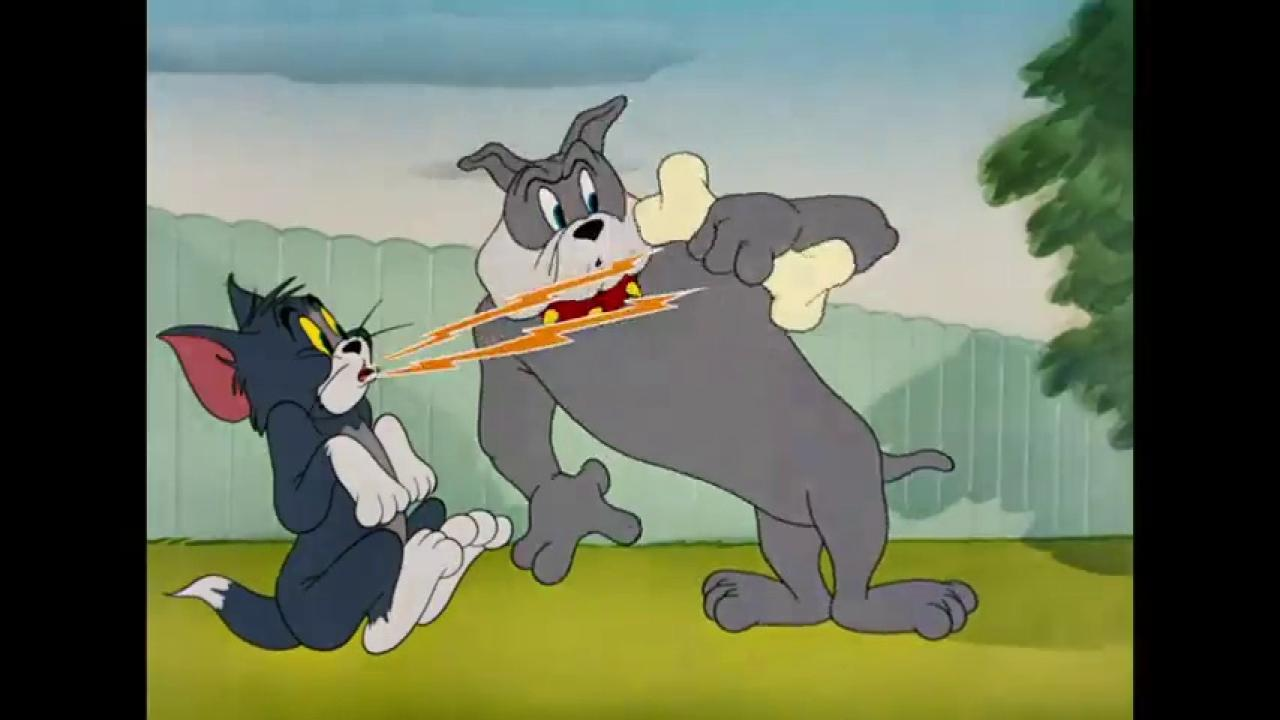Tom: (154, 269, 515, 656)
